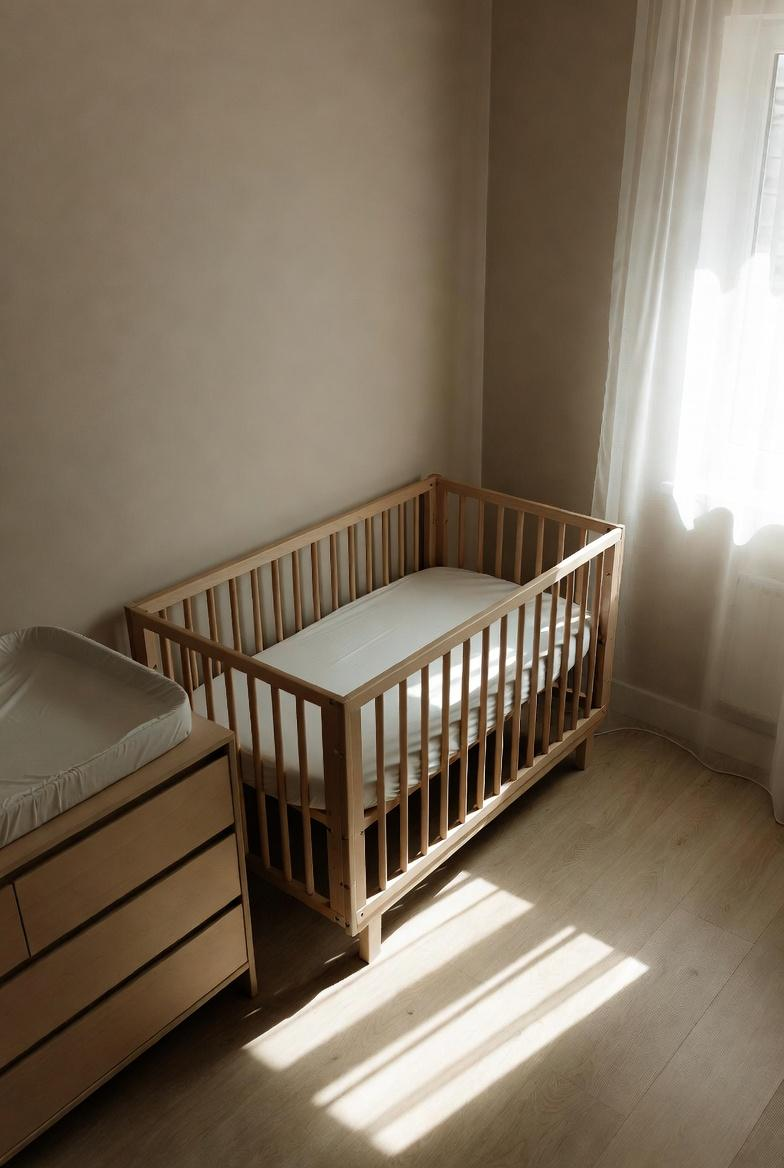crib: (127, 476, 623, 960)
